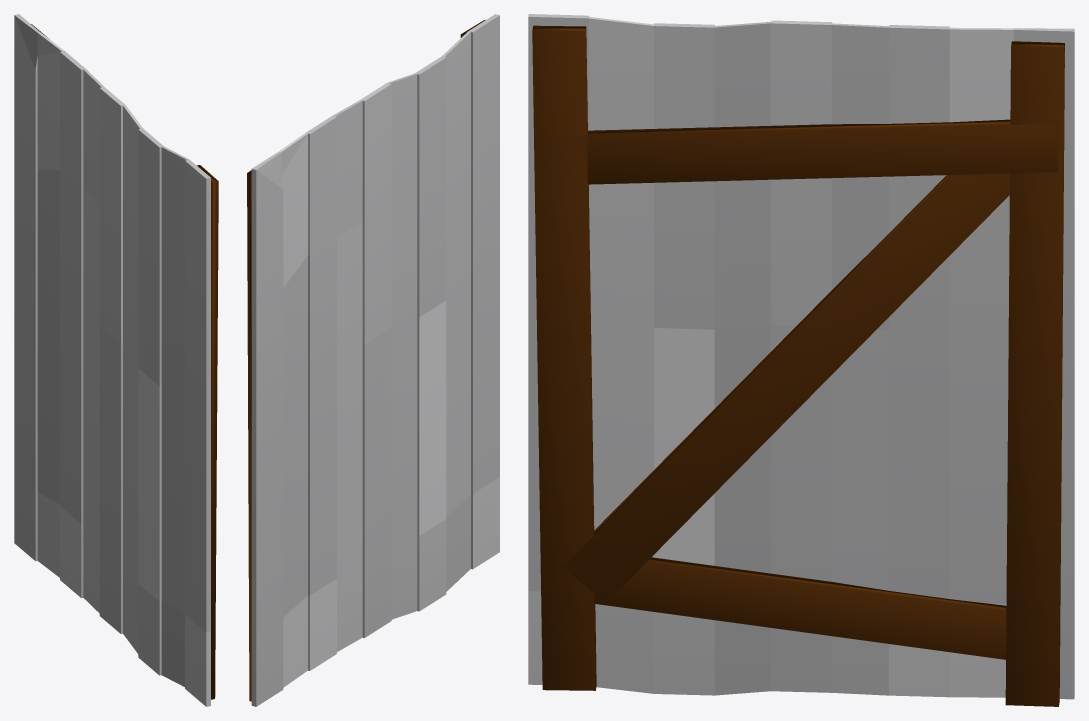
Rendered from Fence 2.fbx.
3 renders of one model, left to right at view 1: azimuth 30°, elevation 25°; view 2: azimuth 150°, elevation 25°; view 3: azimuth 270°, elevation 25°, orthographic. The views are drawn at different scales.
Parts seen in each view (by area): view 1: Fence.002; view 2: Fence.002; view 3: Fence.002.
Boxes of the visible parts, <box> form: Fence.002: <box>14,14,218,706</box>; Fence.002: <box>247,14,499,706</box>; Fence.002: <box>528,14,1074,706</box>.
Bounding box in the file's own units: 23.12 × 318 × 233.
